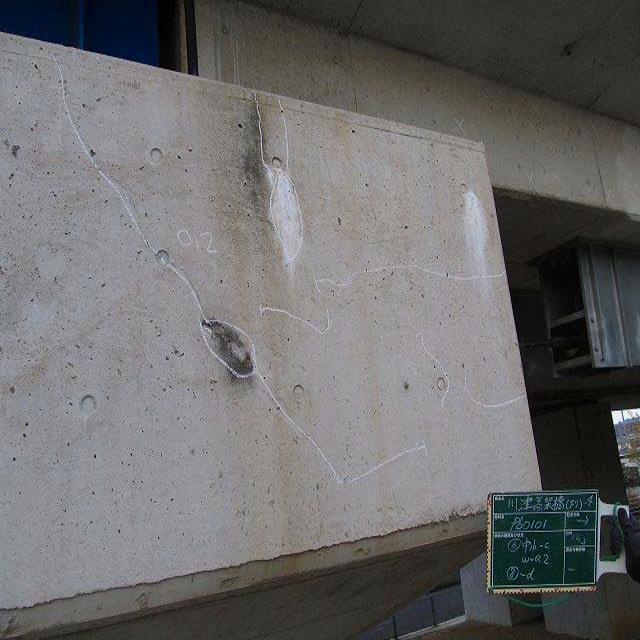freelime: (260, 154, 327, 277), (189, 300, 260, 389), (460, 178, 497, 296)
